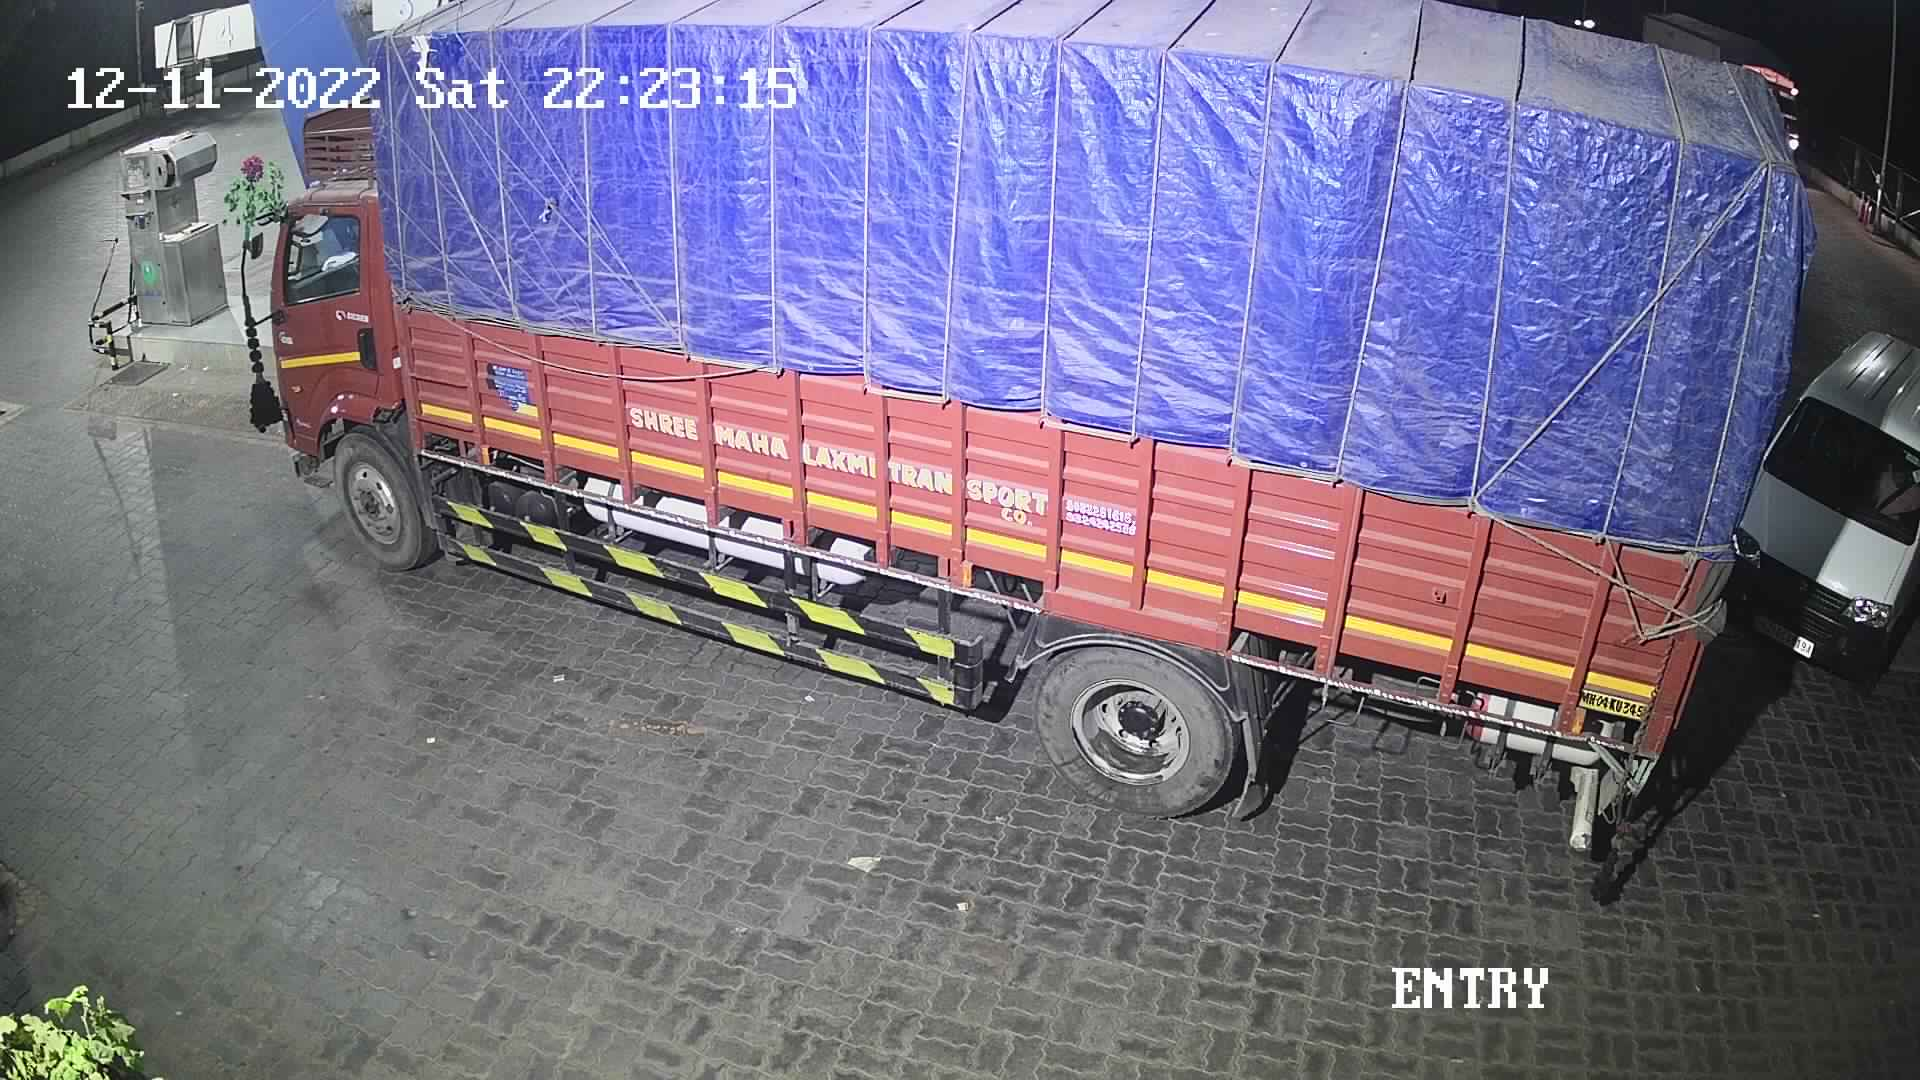Car: (1704, 314, 1917, 707)
HMV: (206, 0, 1813, 914), (1721, 46, 1828, 187)
